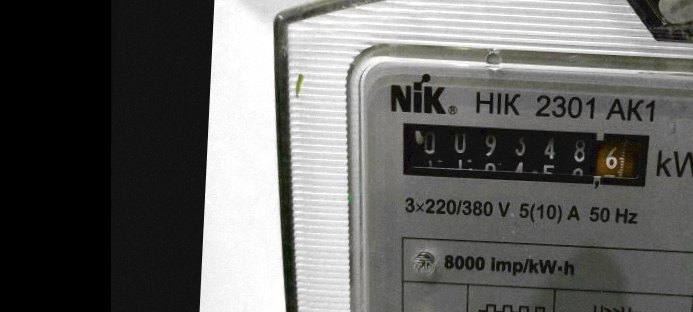0: (421, 129, 438, 156), (452, 128, 467, 154)
3: (513, 132, 528, 157)
4: (540, 131, 559, 162)
6: (602, 142, 621, 172)
8: (572, 135, 588, 164)
9: (483, 132, 498, 160)
screen: (382, 108, 664, 199)
